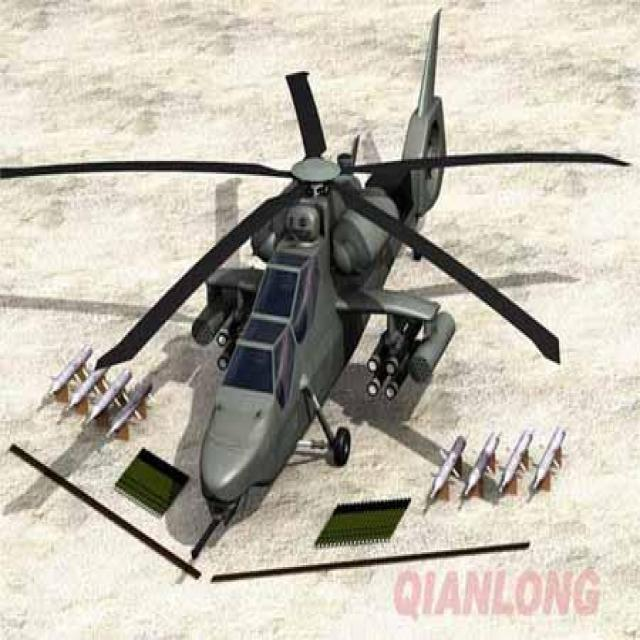MIL_HELO: (0, 16, 640, 529)
